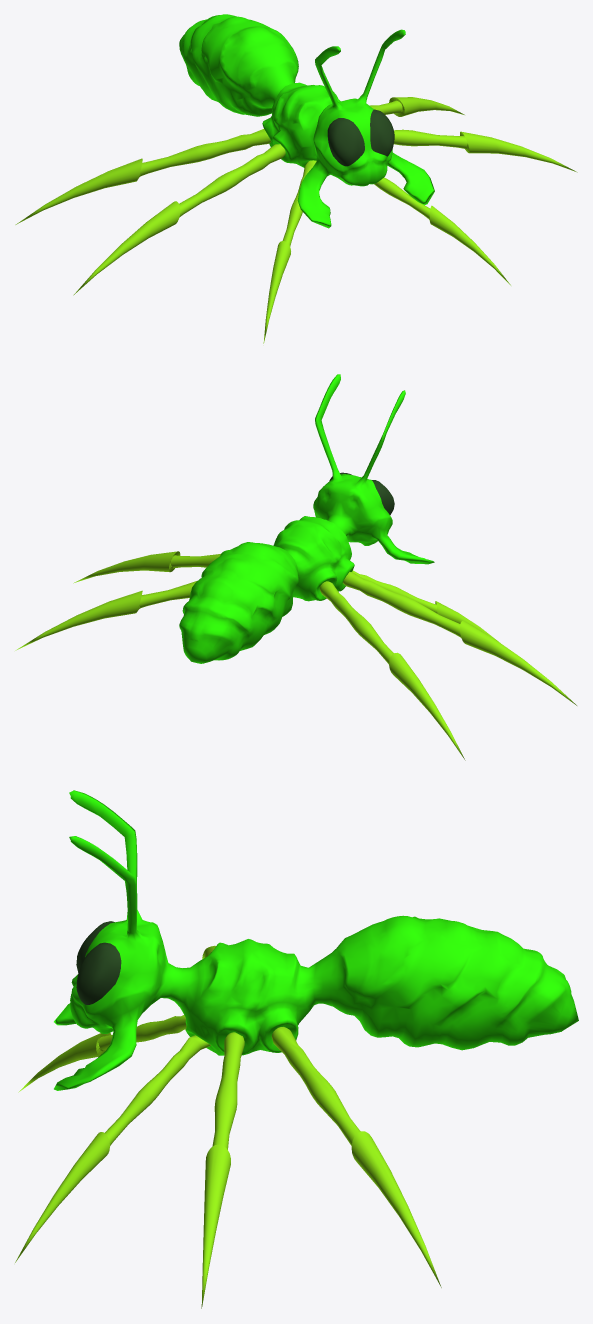
The model's file is 3D_ENEANT.FBX.
3 renders of one model, top to bottom at view 1: azimuth 30°, elevation 25°; view 2: azimuth 150°, elevation 25°; view 3: azimuth 270°, elevation 25°, orthographic. The views are drawn at different scales.
Visible parts, largest first — view 1: 3D_ENEANT; view 2: 3D_ENEANT; view 3: 3D_ENEANT.
Part boxes in pixels (left/top/right/bottom): 3D_ENEANT: left=15, top=14, right=577, bottom=343; 3D_ENEANT: left=15, top=374, right=576, bottom=760; 3D_ENEANT: left=15, top=790, right=578, bottom=1308.
Size of the model in its own units: 150 by 74.17 by 103.
